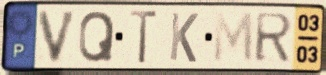K: (167, 11, 200, 65)
M: (212, 10, 255, 65)
Q: (77, 10, 117, 65)
R: (253, 11, 295, 65)
T: (128, 8, 161, 66)
V: (36, 8, 81, 65)
